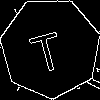T: (25, 23, 66, 74)
